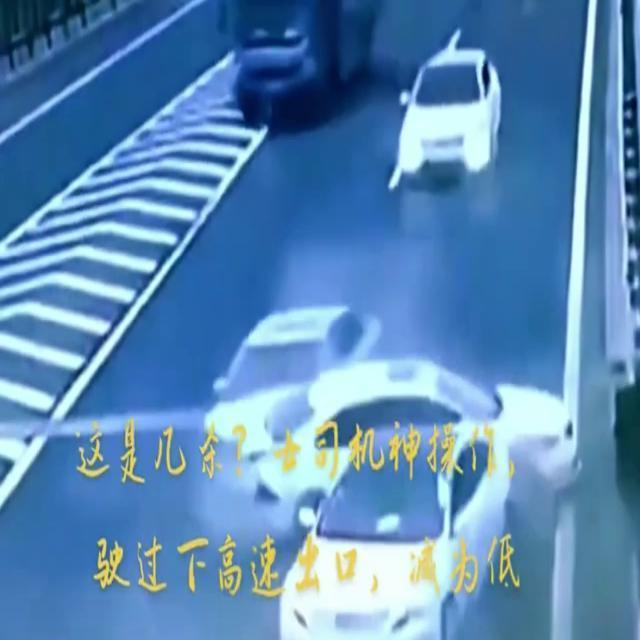accident: (202, 302, 586, 640)
non-accident: (220, 0, 500, 184)
